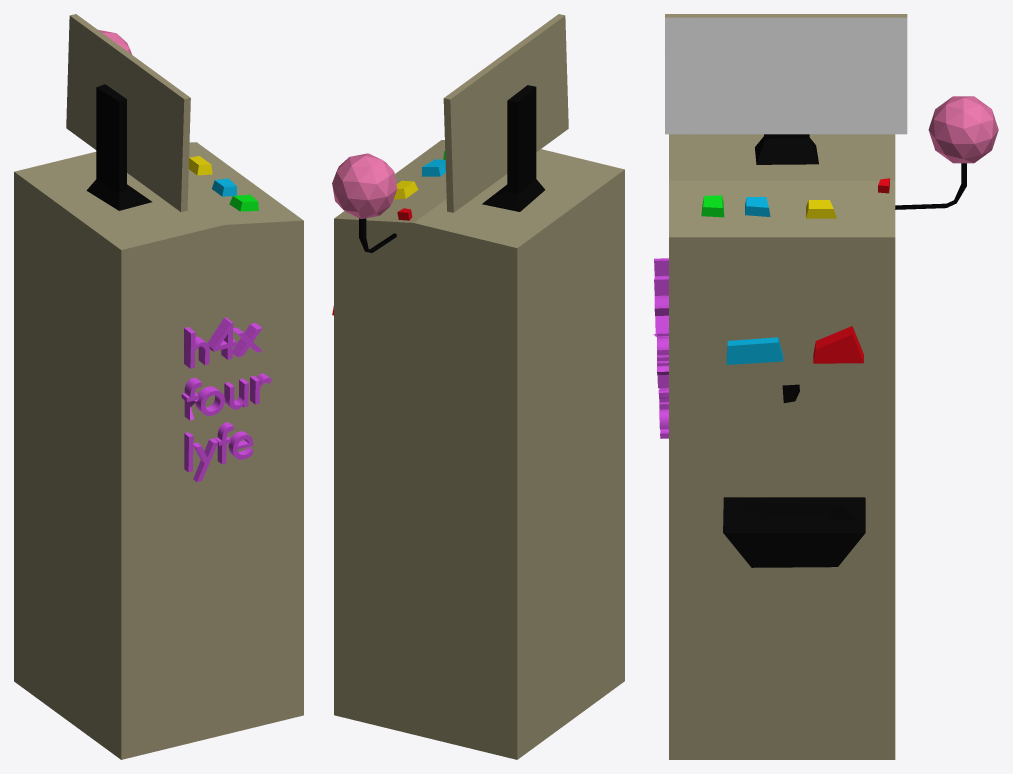
The model's file is kumputoor.fbx.
3 views of the same model, side by side, from view 1: azimuth 30°, elevation 25°; view 2: azimuth 150°, elevation 25°; view 3: azimuth 270°, elevation 25° (orthographic). The views are drawn at different scales.
Visible parts, largest first — view 1: kumputoor, Text; view 2: kumputoor, spleen; view 3: kumputoor, spleen, Text.
Part boxes in pixels (x1=…): kumputoor: x1=14, y1=14, x2=303, y2=759; Text: x1=181, y1=317, x2=271, y2=481; kumputoor: x1=332, y1=14, x2=624, y2=759; spleen: x1=332, y1=153, x2=397, y2=218; kumputoor: x1=665, y1=14, x2=907, y2=759; spleen: x1=928, y1=96, x2=998, y2=163; Text: x1=653, y1=258, x2=668, y2=438.
Bounding box in the file's own units: 114 × 353 × 162.
